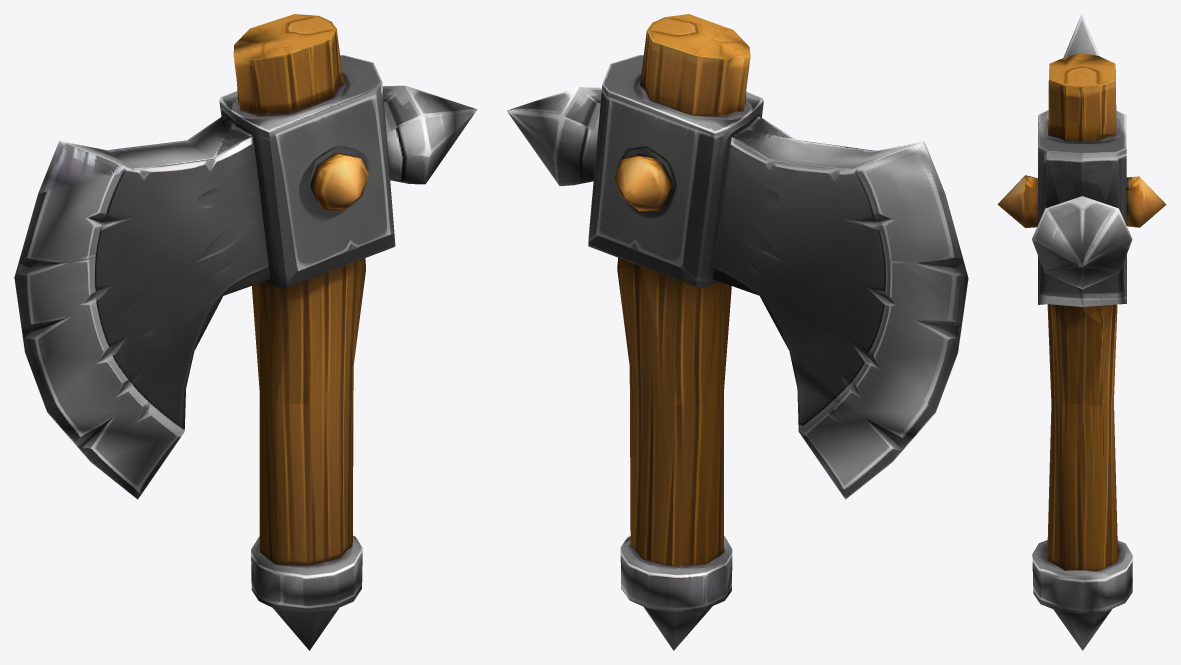
File: Meshy_AI_Stormcleaver_0716122527_texture.fbx
3 views of the same model, side by side, from view 1: azimuth 30°, elevation 25°; view 2: azimuth 150°, elevation 25°; view 3: azimuth 270°, elevation 25° (orthographic). The views are drawn at different scales.
Parts seen in each view (by area): view 1: mesh_node; view 2: mesh_node; view 3: mesh_node.
Boxes of the visible parts, x1=… form: mesh_node: x1=14, y1=14, x2=477, y2=650; mesh_node: x1=507, y1=14, x2=968, y2=650; mesh_node: x1=997, y1=14, x2=1166, y2=650.
Bounding box in the file's own units: 77.34 × 99.8 × 26.66.
1 material, 1 textured.
